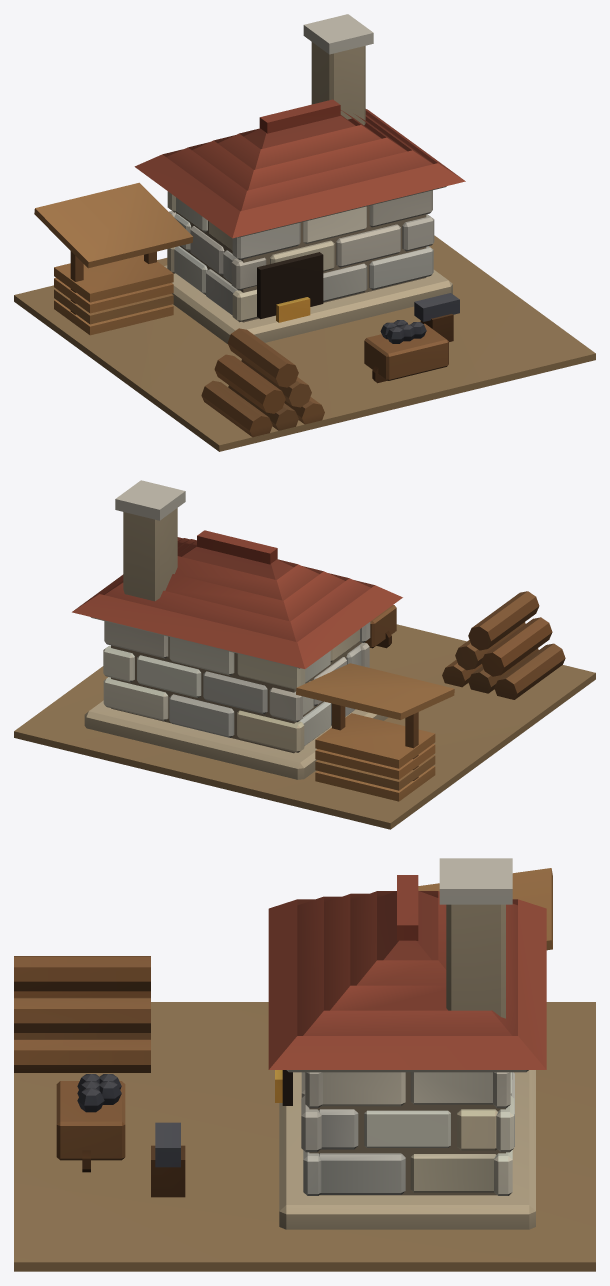
The model's file is b_workshop.glb.
3 views of the same model, one above another, from view 1: azimuth 30°, elevation 25°; view 2: azimuth 150°, elevation 25°; view 3: azimuth 270°, elevation 25° (orthographic). The views are drawn at different scales.
Parts seen in each view (by area): view 1: b_workshop, L2, L3; view 2: b_workshop, L2, L3; view 3: b_workshop, L3, L2.
Part boxes in pixels (bbox=[...]): b_workshop: bbox=[14, 14, 595, 451]; L2: bbox=[34, 182, 193, 335]; L3: bbox=[364, 320, 448, 383]; b_workshop: bbox=[14, 480, 595, 829]; L2: bbox=[296, 663, 454, 801]; L3: bbox=[365, 605, 396, 648]; b_workshop: bbox=[14, 858, 595, 1271]; L3: bbox=[56, 1074, 125, 1172]; L2: bbox=[418, 868, 552, 950].
Size of the model in its own units: 0.72 by 0.429 by 0.68.
